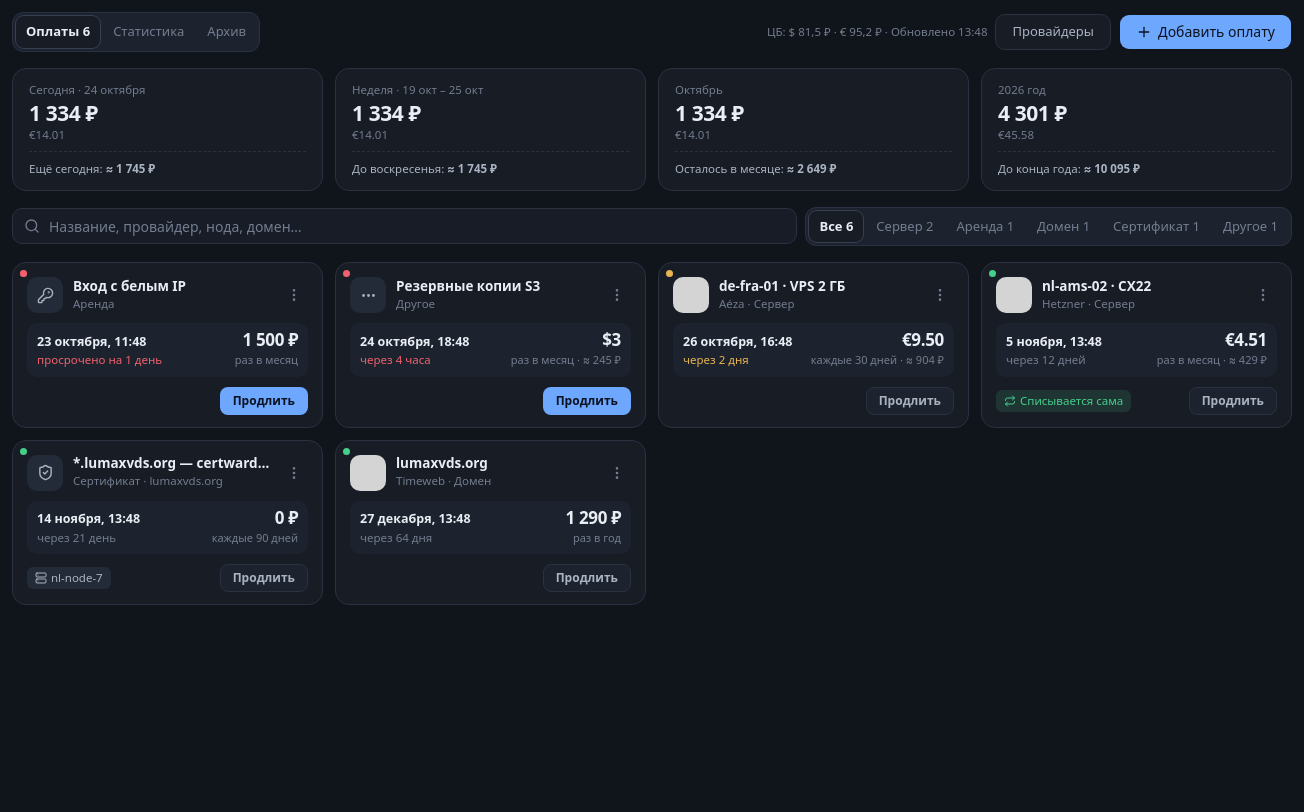
Test: BillingPage › итоги за периоды и карточки по ближайшему сроку с маячком
Check: the number of elements with test id "billing-card" is 6, box x1=12 y1=262 x2=323 y2=428; x1=335 y1=262 x2=646 y2=428; x1=658 y1=262 x2=969 y2=428; x1=981 y1=262 x2=1292 y2=428; x1=12 y1=440 x2=323 y2=605; x1=335 y1=440 x2=646 y2=605
Check: the text "Вход с белым IP" is shown, box x1=73 y1=277 x2=186 y2=295
# Фильтр по типу.
Click the radio button labelled "Сертификат 1" at (1157, 226), box x1=1103 y1=210 x2=1210 y2=242
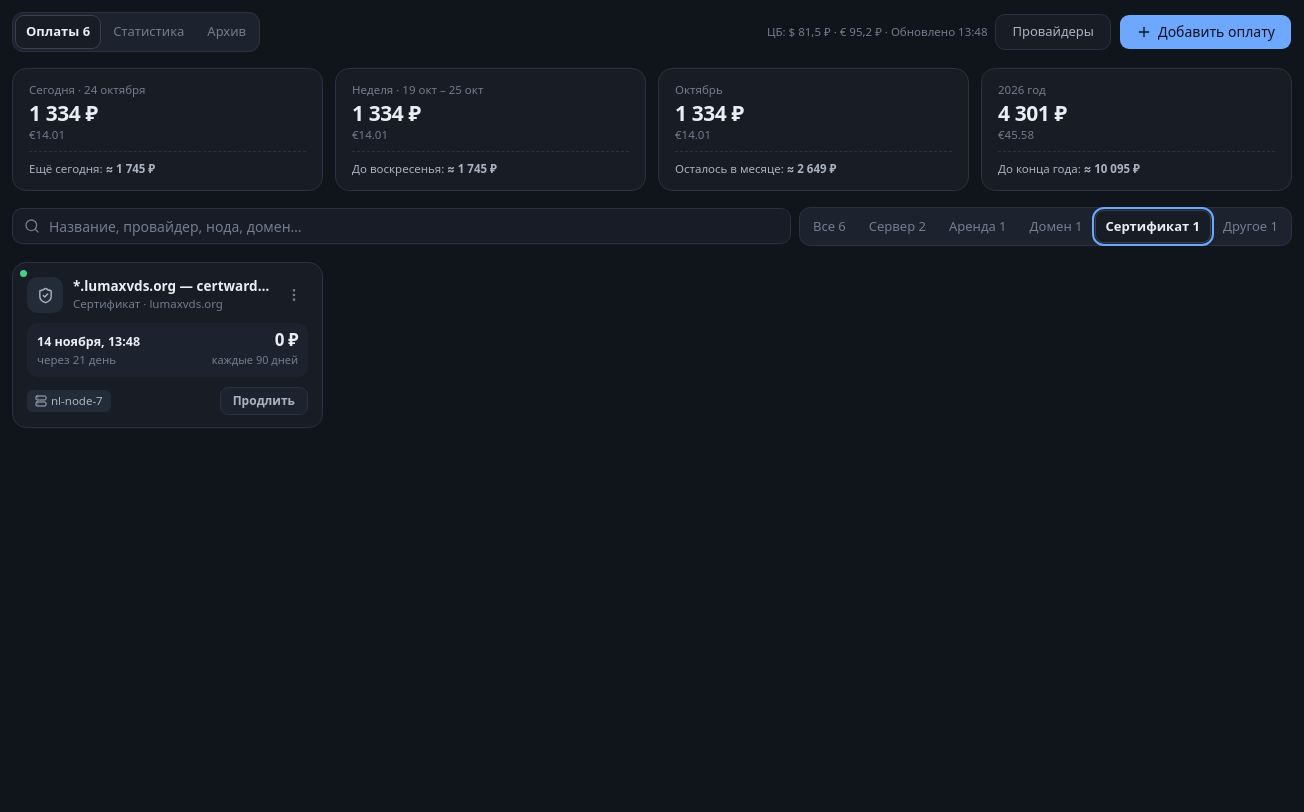
Check: the number of elements with test id "billing-card" is 1, box x1=12 y1=262 x2=323 y2=428
